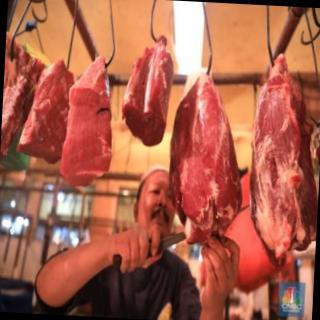Daging Sapi: (250, 52, 320, 266), (168, 69, 248, 244), (61, 54, 118, 189), (123, 37, 176, 149), (20, 61, 71, 166)
